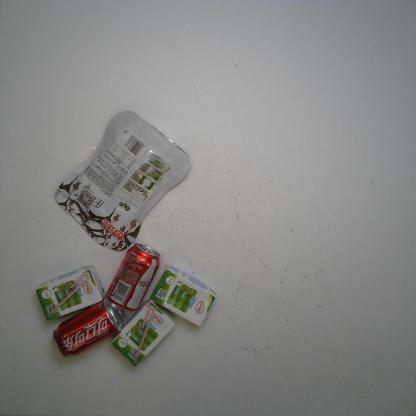Dried Fruit: (54, 110, 192, 252)
Drink: (52, 298, 124, 358), (104, 242, 161, 314)
Milk: (110, 298, 176, 367), (148, 263, 218, 328), (35, 263, 105, 322)
